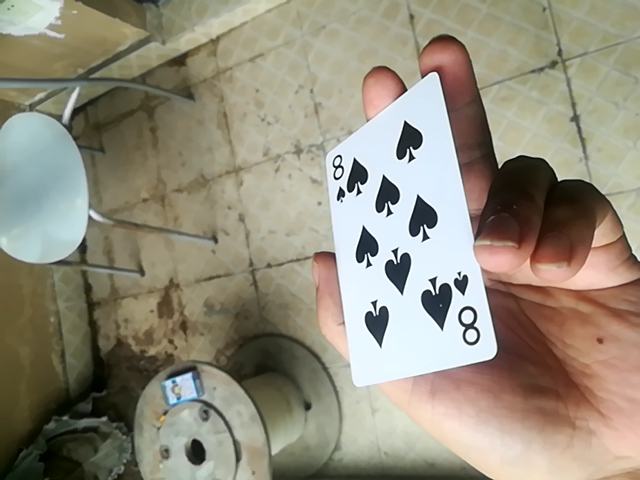ht 8: (326, 65, 491, 394)
